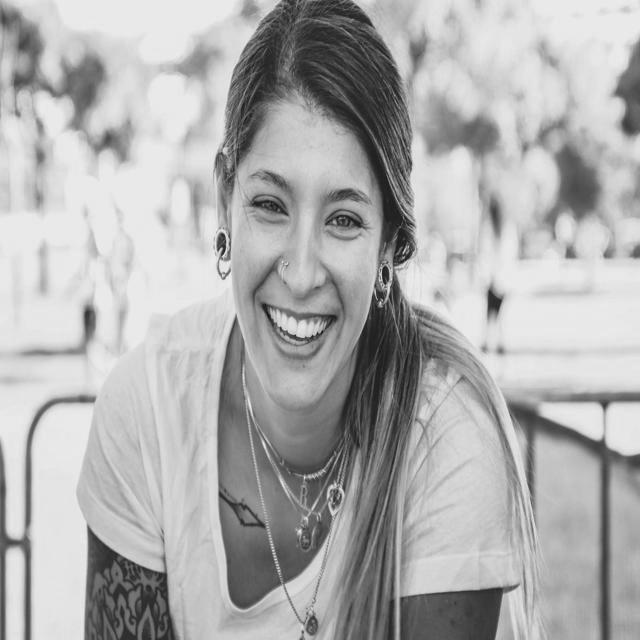Happiness: (229, 108, 385, 415)
